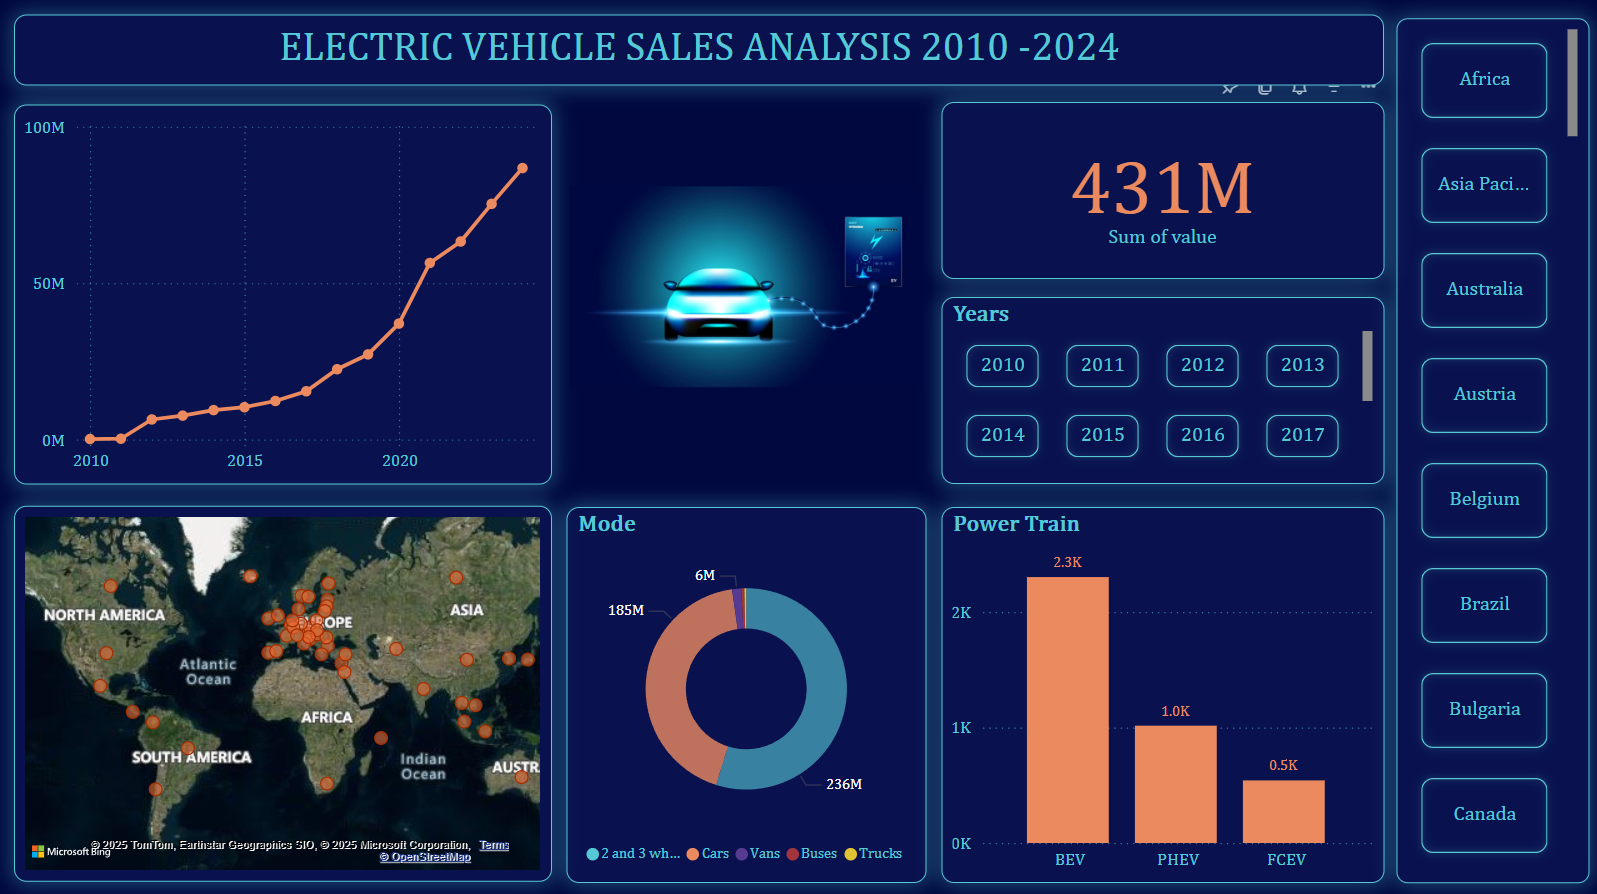

The dashboard page shown, as its layout file describes it:
{"tool":"powerbi","page":{"name":"Page 1","canvas":[1280,720],"ordinal":0},"visuals":[{"type":"lineChart","title":"Sales Rate","fields":{"Y":["Sum(SALES_DATA1.value)"],"Category":["SALES_DATA1.year"]},"box":[12.1,85.7,429.5,304],"z":0},{"type":"advancedSlicerVisual","title":"Years","fields":{"Values":["SALES_DATA1.year"]},"box":[754,240.1,353.5,149.6],"z":1000},{"type":"donutChart","title":"Mode","fields":{"Category":["SALES_DATA1.mode"],"Y":["Sum(SALES_DATA1.value)"]},"box":[453.6,407.8,288.3,301.6],"z":2000},{"type":"clusteredColumnChart","title":"Power Train","fields":{"Y":["CountNonNull(SALES_DATA1.powertrain)"],"Category":["SALES_DATA1.powertrain"]},"box":[754,407.8,353.5,301.6],"z":3000},{"type":"map","fields":{"Category":["SALES_DATA1.region_country"]},"box":[12.1,406.6,429.5,301.6],"z":4000},{"type":"advancedSlicerVisual","fields":{"Values":["SALES_DATA1.region_country"]},"box":[1118.4,16.9,153.2,692.5],"z":5000},{"type":"card","fields":{"Values":["Sum(SALES_DATA1.value)"]},"box":[754,84.5,353.5,141.2],"z":6000},{"type":"textbox","box":[12.1,14.5,1095.4,56.7],"z":7000},{"type":"image","box":[451.2,101.3,292,261.8],"z":8000}]}

Visuals, with their boxes in screenshot pixels (x1, y1, x2, y2), scaled from the page's 1280x720 canvas onto the 1597x894 screenshot:
"Sales Rate" lineChart: 15, 106, 551, 484
"Years" advancedSlicerVisual: 941, 298, 1382, 484
"Mode" donutChart: 566, 506, 926, 881
"Power Train" clusteredColumnChart: 941, 506, 1382, 881
map - SALES_DATA1.region_country: 15, 505, 551, 879
advancedSlicerVisual - SALES_DATA1.region_country: 1395, 21, 1587, 881
card - Sum(SALES_DATA1.value): 941, 105, 1382, 280
textbox: 15, 18, 1382, 88
image: 563, 126, 927, 451
